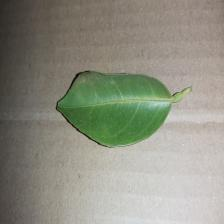greening: (55, 68, 193, 148)
